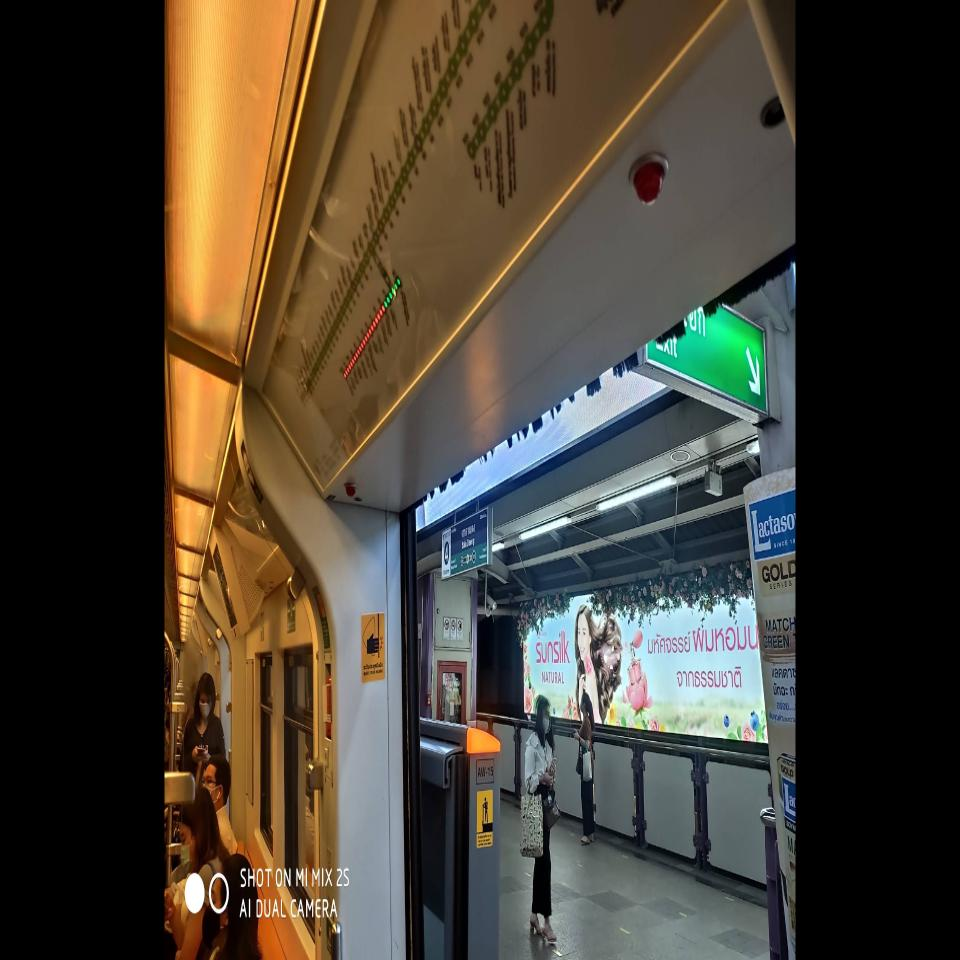signage: (460, 512, 476, 572)
